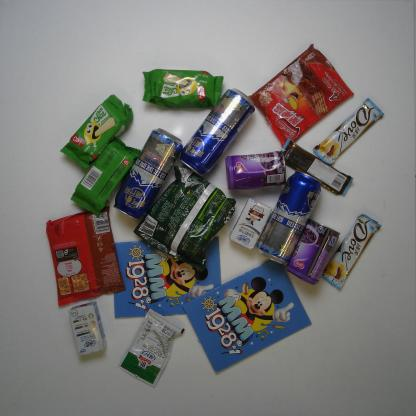Alcohol: (180, 88, 257, 182), (257, 169, 323, 268), (113, 128, 184, 220)
Canned Food: (287, 220, 340, 286), (222, 151, 290, 191)
Chocolate: (312, 98, 386, 166), (323, 213, 382, 290), (280, 137, 355, 194)
Dessert: (248, 41, 355, 148), (42, 206, 127, 306), (70, 135, 143, 218), (60, 94, 134, 168), (140, 68, 226, 107)
Instant Noodles: (133, 166, 236, 264)
Milk: (227, 198, 272, 250), (68, 301, 106, 358)
Seasoner: (119, 307, 185, 388)
Stationery: (180, 260, 313, 373), (110, 237, 226, 320)
